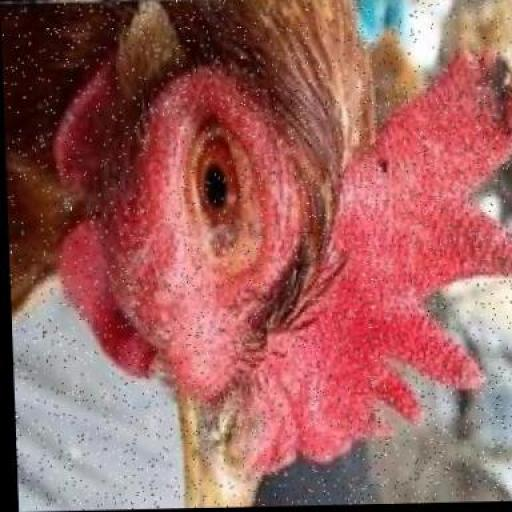disease: (107, 63, 317, 358)
